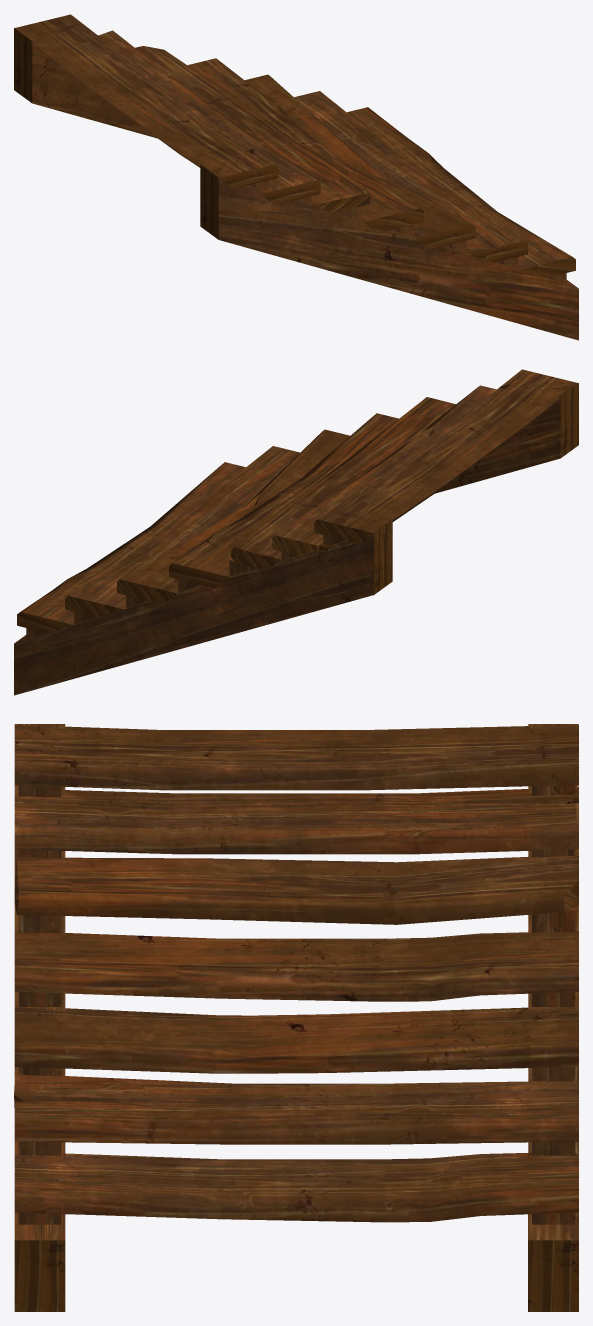
The picture shows the model from 3 angles, top to bottom: view 1: azimuth 30°, elevation 25°; view 2: azimuth 150°, elevation 25°; view 3: azimuth 270°, elevation 25°; orthographic projection. The views are drawn at different scales.
Visible parts, largest first — view 1: SM_BB_T2_Stairs_Shallow_LOD0; view 2: SM_BB_T2_Stairs_Shallow_LOD0; view 3: SM_BB_T2_Stairs_Shallow_LOD0.
Part boxes in pixels (<box>): SM_BB_T2_Stairs_Shallow_LOD0: <box>14,14,578,340</box>; SM_BB_T2_Stairs_Shallow_LOD0: <box>14,369,578,695</box>; SM_BB_T2_Stairs_Shallow_LOD0: <box>14,724,578,1311</box>.
Size of the model in its own units: 1.53 by 1.01 by 1.5.
1 material, 1 textured.
